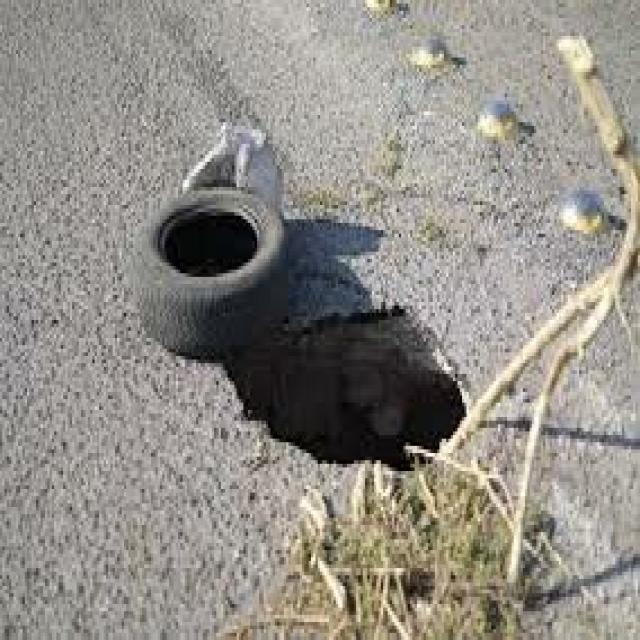Pothole: (169, 252, 534, 539)
